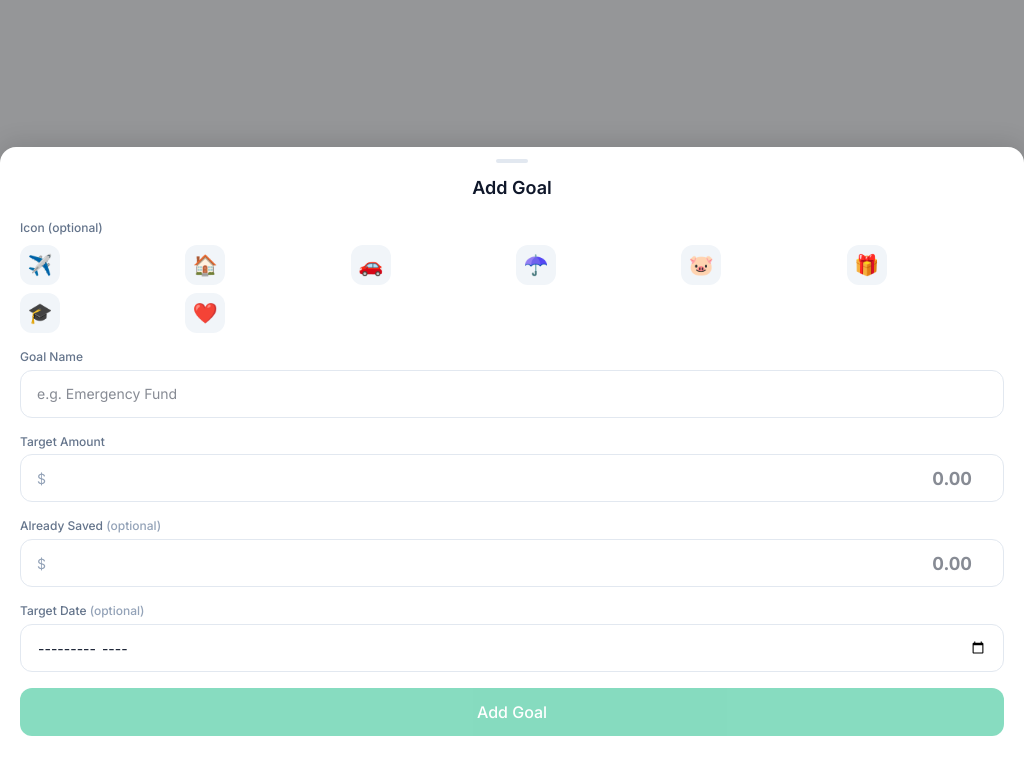
Test case: AddGoalSheet › submit button is enabled when name and target amount filled
Step 1. Type "Vacation" into the field with test id "name-input" → [512, 394], box [20, 370, 1004, 418]
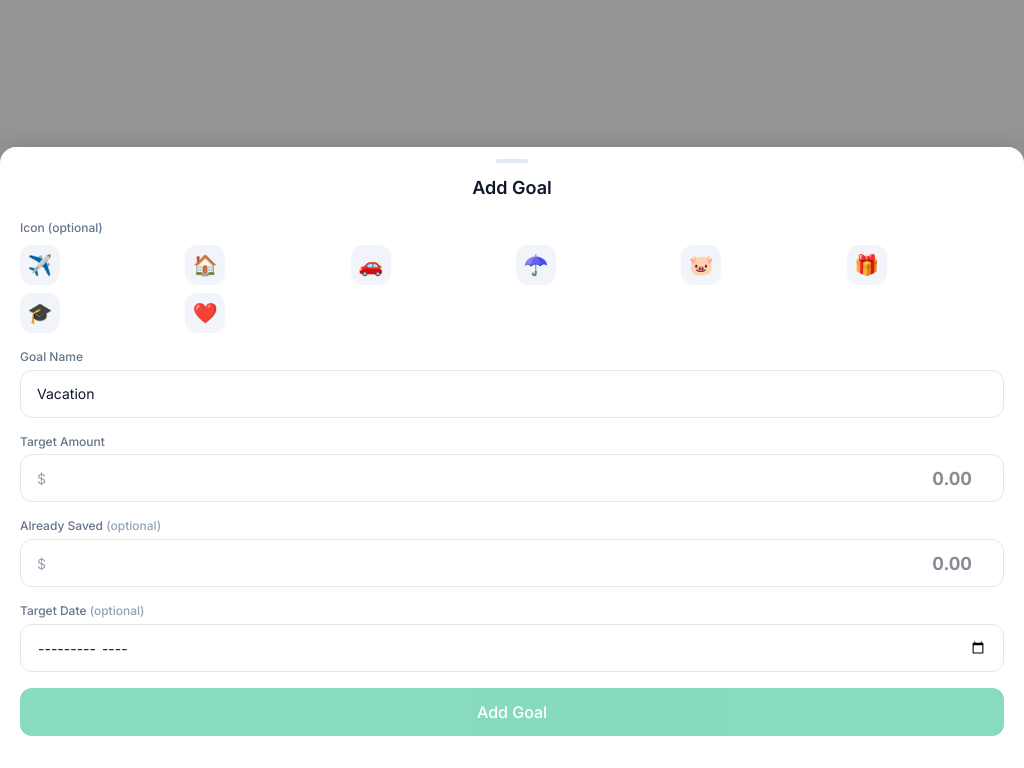
Step 2. Type "1000" into the number field with test id "target-amount-input" → [526, 478], box [50, 455, 1003, 501]
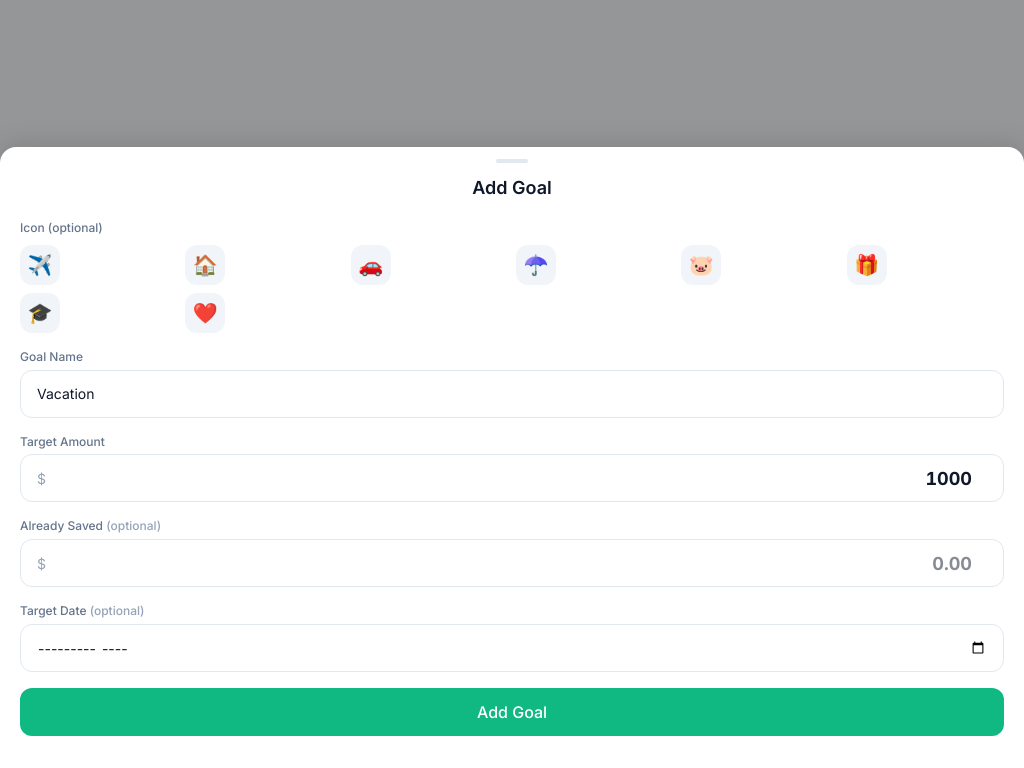
Expected: the button with test id "add-goal-submit-btn" is enabled, [20, 688, 1004, 736]
